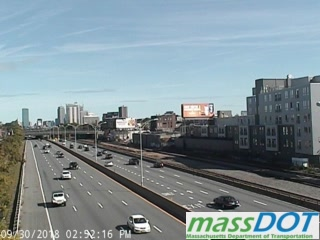car: (127, 213, 151, 233), (213, 195, 238, 209), (52, 191, 67, 206), (61, 170, 72, 179), (127, 158, 139, 165), (69, 162, 79, 170), (153, 161, 164, 168), (103, 160, 114, 166), (42, 147, 50, 153), (105, 154, 112, 160), (57, 153, 65, 158), (43, 142, 50, 147), (96, 151, 103, 156), (83, 147, 90, 152), (69, 142, 74, 149), (56, 150, 61, 156), (78, 144, 83, 150), (101, 150, 106, 154)
